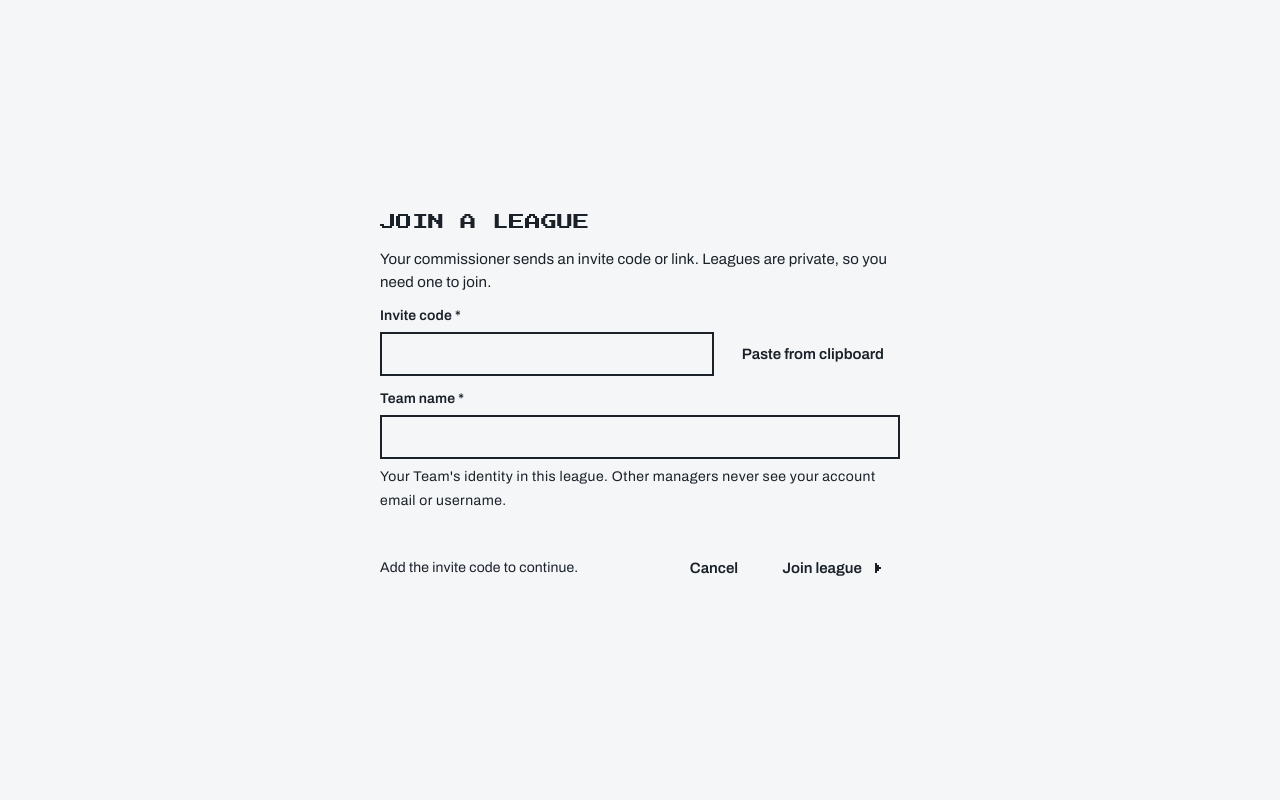
Test case: a 16-character code is looked up once and shows its preview with no error state
Type "a1b2c3d4e5f6a7b8" into the field labelled "Invite code *" at (547, 354), box 380,332 -> 714,376
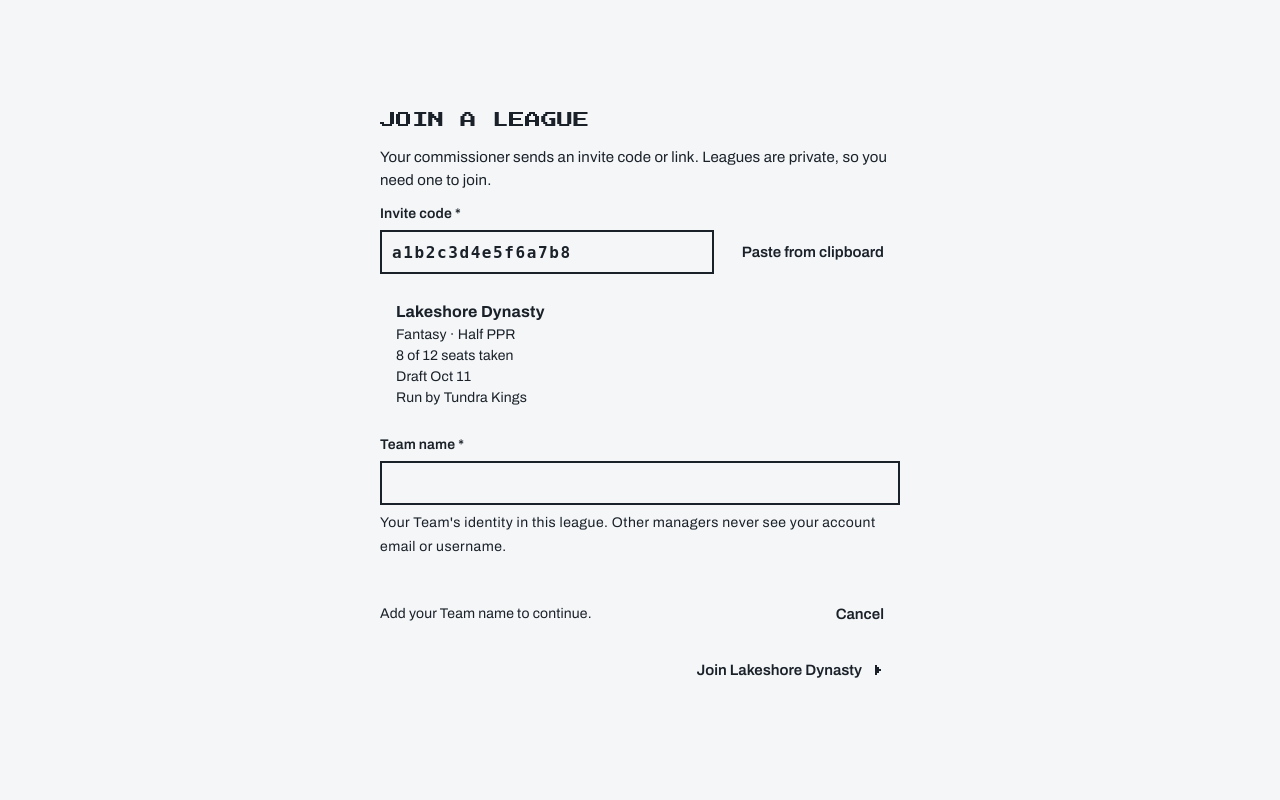
Expected: the element with test id "join-preview" is shown, 396,303 -> 545,405
